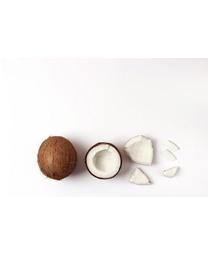coconut: (37, 135, 76, 181), (84, 141, 122, 180)
